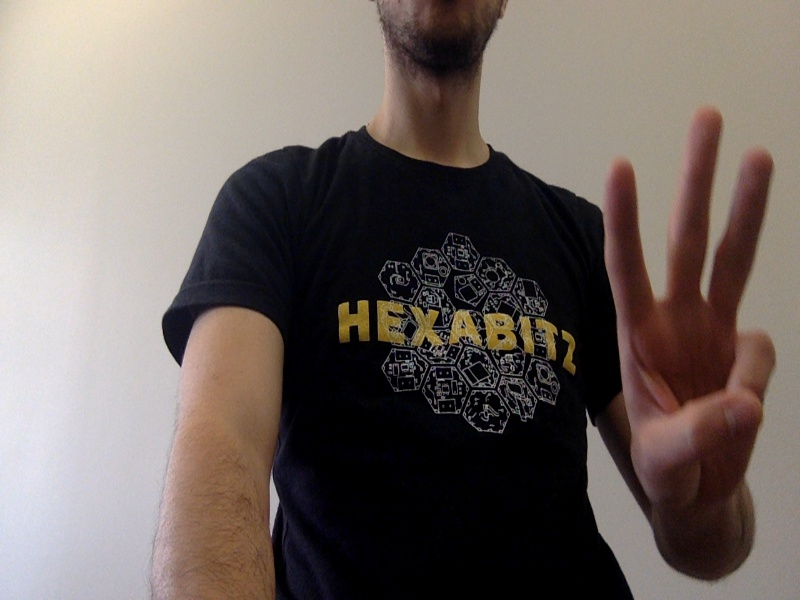3-hand: (606, 108, 774, 500)
